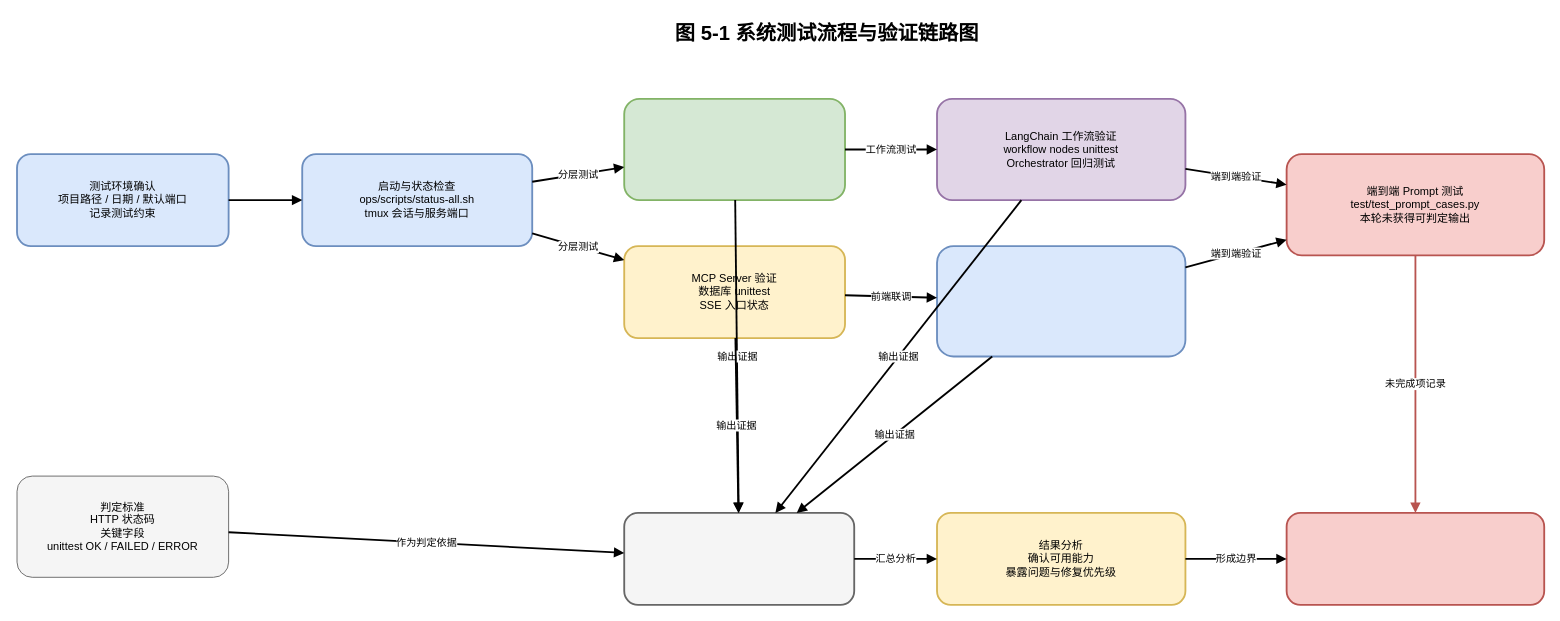
Image size: 1560x621. Some labels were removed from this diagram. Here are the shapes that lost their labels. From the top down, the box of each, then its label:
(623, 98, 845, 201): Node Agent 验证 /health executor runtime 监控日志
(936, 245, 1186, 357): WebUI V2 验证 页面契约测试 runtime helper 测试 首页 HTTP 200
(623, 512, 855, 605): 结果记录 通过 / 失败 / 未完成 表 5-3 至表 5-5
(1285, 512, 1545, 605): 测试边界 不把失败项写成通过 不使用 mock 数据冒充结果
